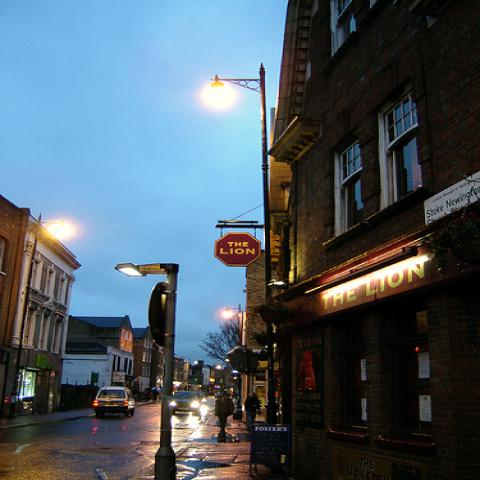car: (92, 385, 136, 419), (170, 392, 200, 416), (198, 391, 207, 405)
